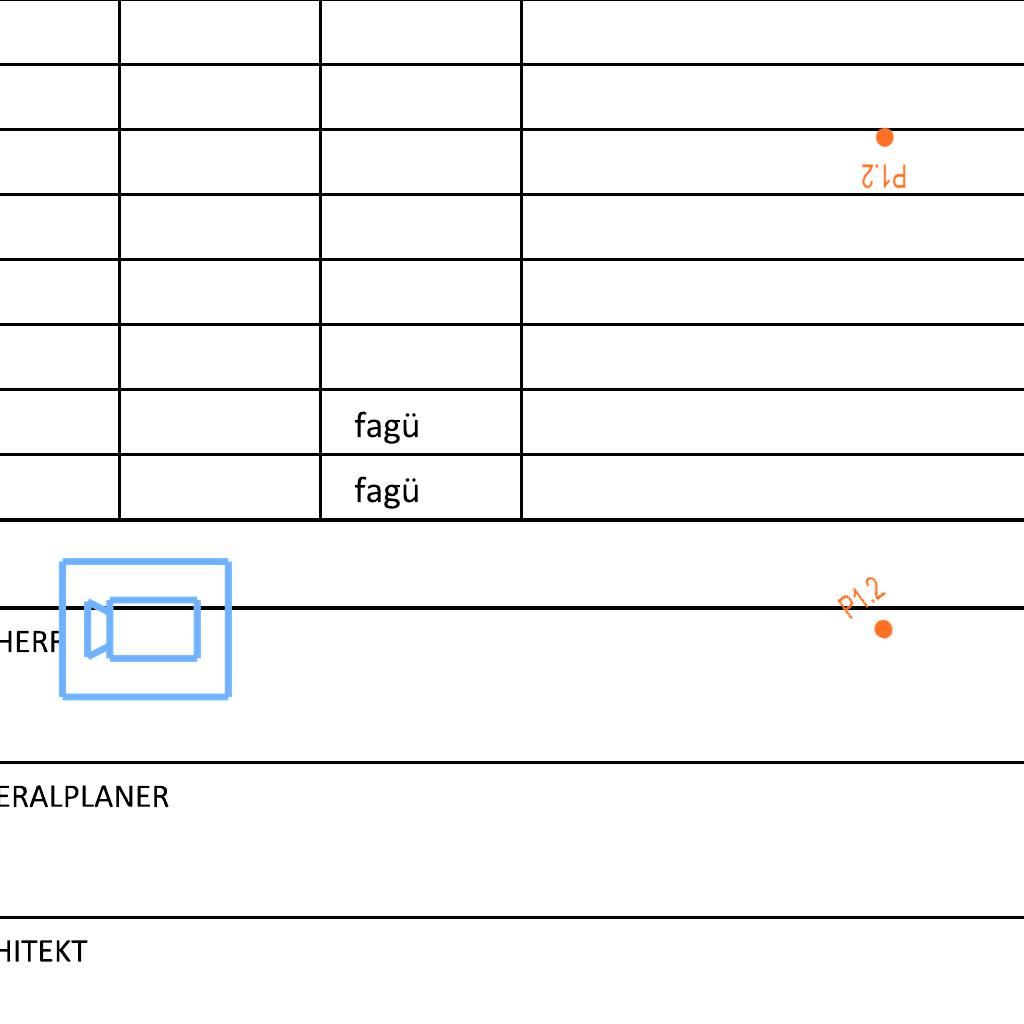Downlight_LED_Einbauleuchten_Flur: (834, 572, 910, 652), (861, 126, 907, 190)
KFO_Kamera_mit_Festobjektiv: (55, 551, 237, 705)
